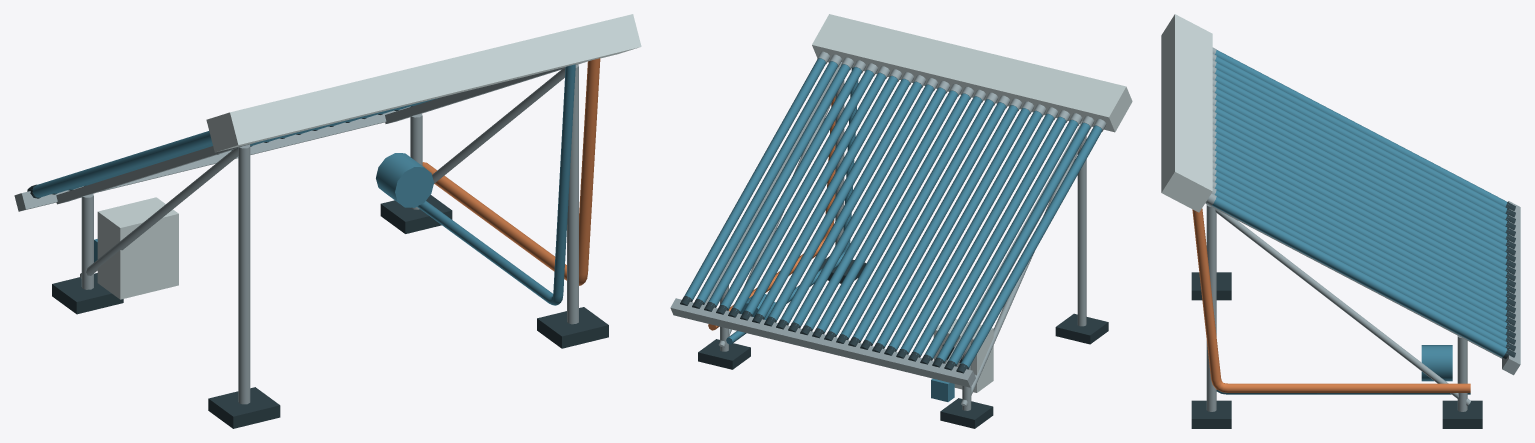
File: solar_thermal.glb
The picture shows the model from 3 angles, left to right: view 1: azimuth 30°, elevation 25°; view 2: azimuth 150°, elevation 25°; view 3: azimuth 270°, elevation 25°; orthographic projection. The views are drawn at different scales.
Visible parts, largest first — view 1: ThermalAssembly; view 2: ThermalAssembly; view 3: ThermalAssembly.
Boxes of the visible parts, bbox=[...] form: ThermalAssembly: bbox=[14, 14, 641, 428]; ThermalAssembly: bbox=[670, 14, 1132, 428]; ThermalAssembly: bbox=[1161, 14, 1520, 428].
Size of the model in its own units: 0.2061 by 0.16 by 0.1984.
